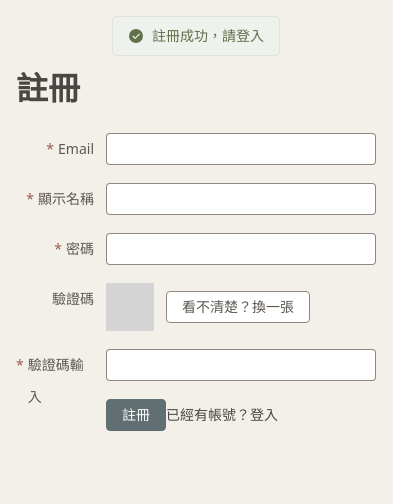
Test: RegisterPage › CAPTCHA-BW-006：刷新驗證碼失敗時顯示提示、停用送出按鈕，不清空已填欄位
Type "user@example.com" into the field labelled "Email" at [241, 149], box [117,134,365,164]
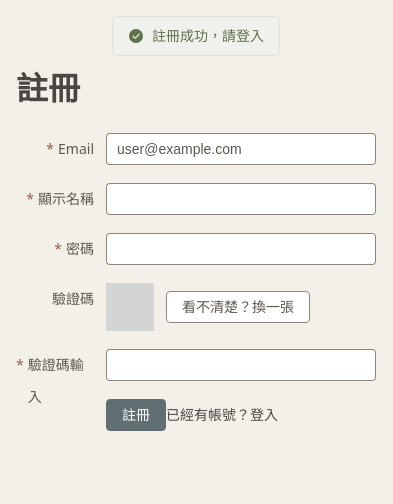
Type "Password123" into the password field labelled "密碼" at [241, 249], box [117,234,365,264]
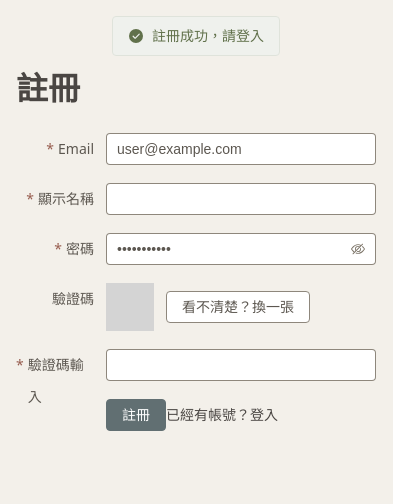
Click the button "看不清楚？換一張" at [238, 307], box [166,291,310,323]
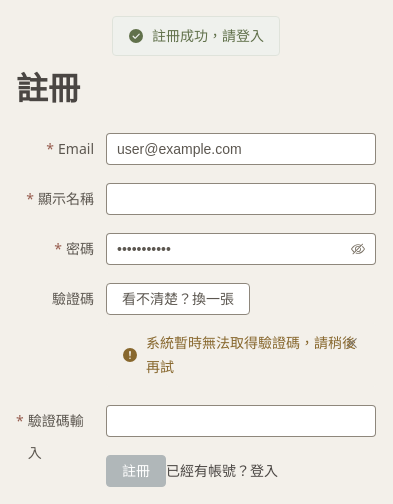
Now the text "系統暫時無法取得驗證碼，請稍後再試" is shown, box [146,331,360,379]
Now the submit button is disabled, box [106,455,166,487]
